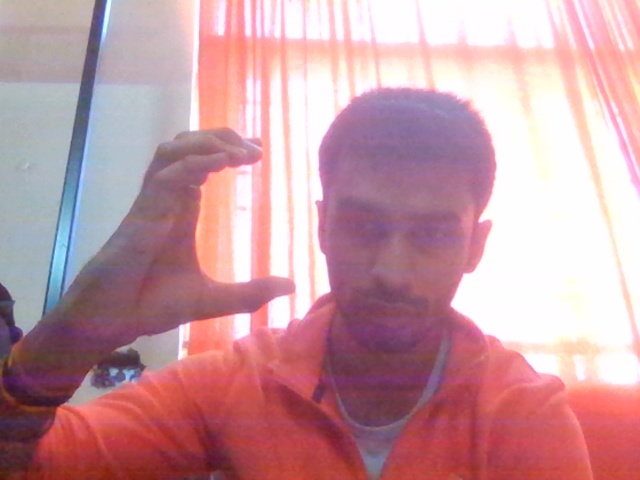C: (35, 108, 307, 403)
